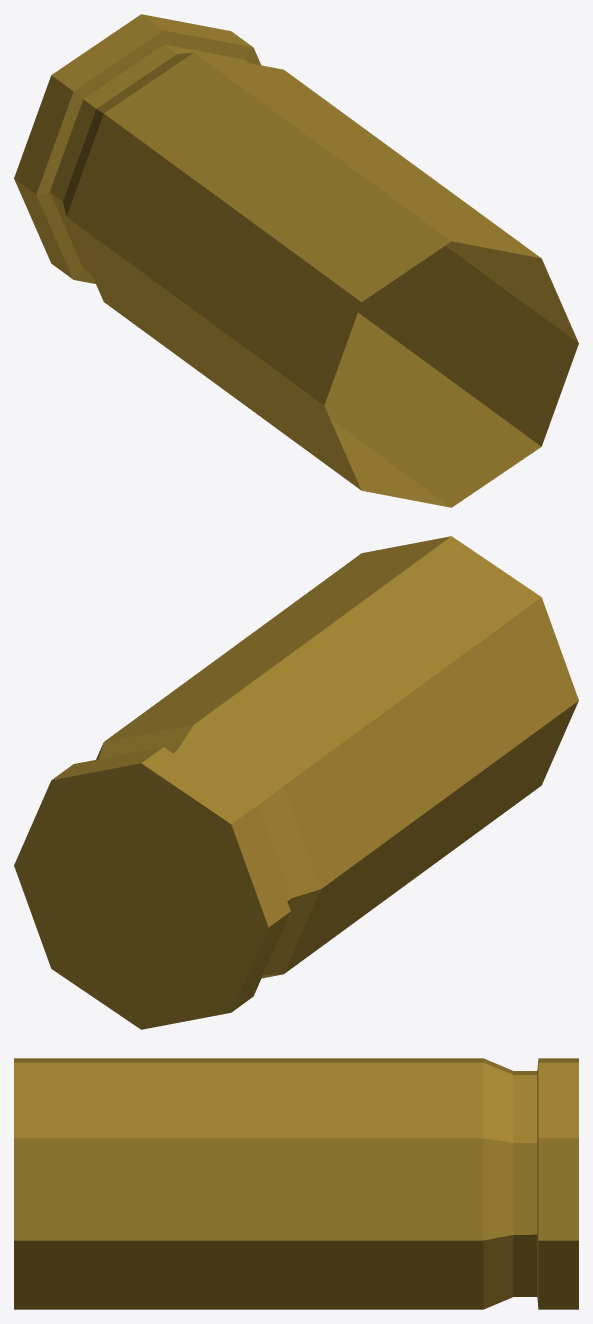
File: mdl_casing.glb
3 views of the same model, one above another, from view 1: azimuth 30°, elevation 25°; view 2: azimuth 150°, elevation 25°; view 3: azimuth 270°, elevation 25° (orthographic). The views are drawn at different scales.
Parts seen in each view (by area): view 1: Bullet Casing; view 2: Bullet Casing; view 3: Bullet Casing.
Boxes of the visible parts, x1,y1,x2,y2 form: Bullet Casing: (14,14,578,507); Bullet Casing: (14,536,578,1029); Bullet Casing: (14,1058,578,1309).
Size of the model in its own units: 9 by 9 by 19.
Materials: 1 (1 with a texture image).
